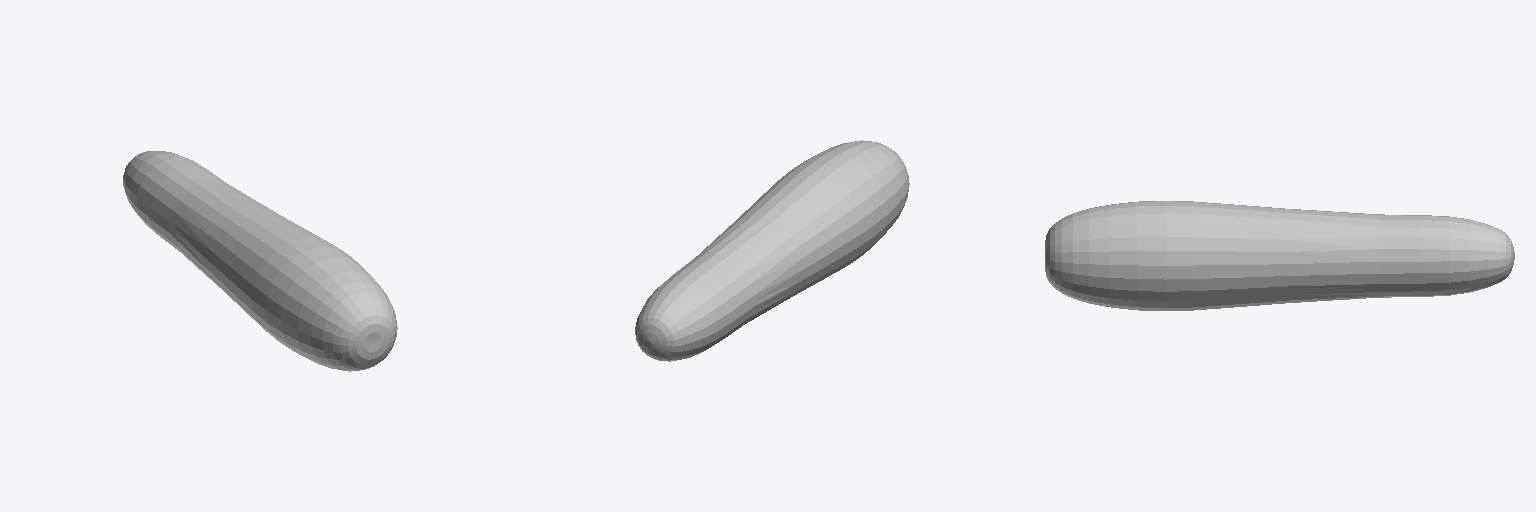
Rendered from calf.obj.
3 renders of one model, left to right at view 1: azimuth 30°, elevation 25°; view 2: azimuth 150°, elevation 25°; view 3: azimuth 270°, elevation 25°, orthographic.
Visible parts, largest first — view 1: Object__0, Object__1; view 2: Object__0, Object__1; view 3: Object__0, Object__1.
Boxes of the visible parts, x1=… form: Object__0: x1=172, y1=182, x2=397, y2=371; Object__1: x1=123, y1=151, x2=228, y2=251; Object__0: x1=696, y1=140, x2=909, y2=323; Object__1: x1=635, y1=253, x2=754, y2=361; Object__0: x1=1045, y1=201, x2=1376, y2=310; Object__1: x1=1377, y1=214, x2=1514, y2=297.
Size of the model in its own units: 0.0995 by 0.0995 by 0.4207.